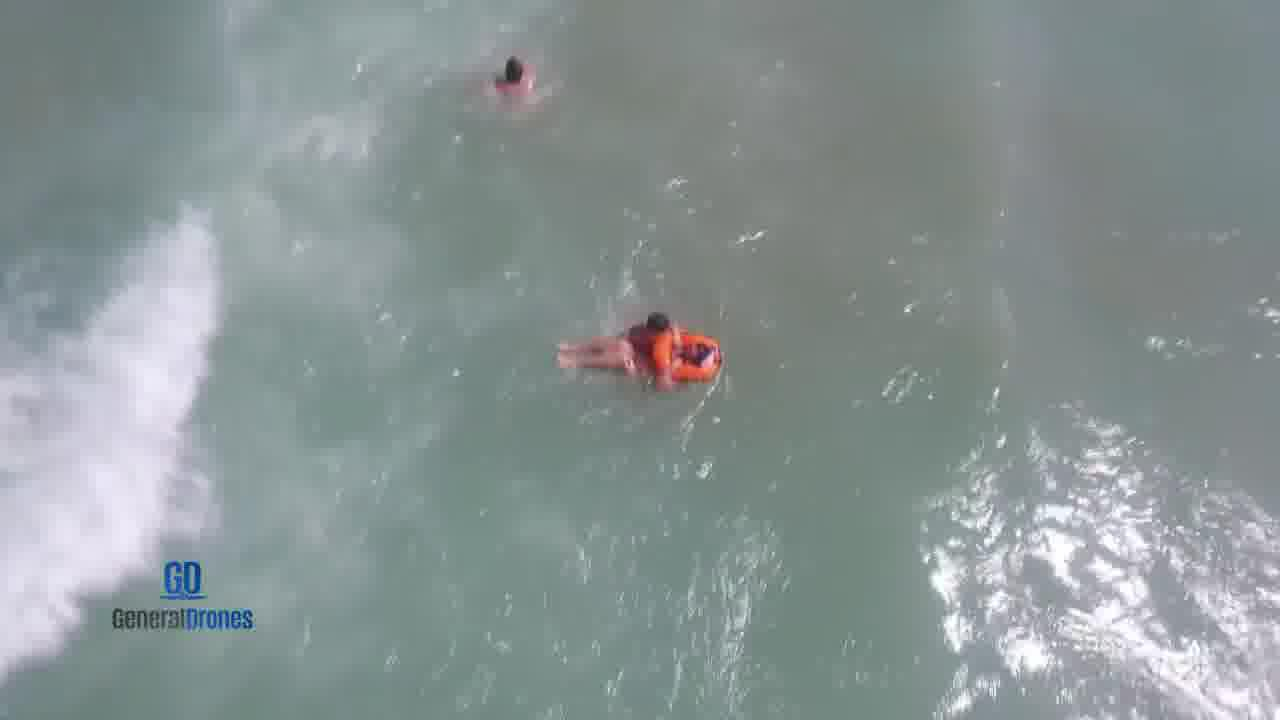swimmer: (555, 342, 728, 387), (483, 58, 545, 98), (620, 314, 696, 343)
